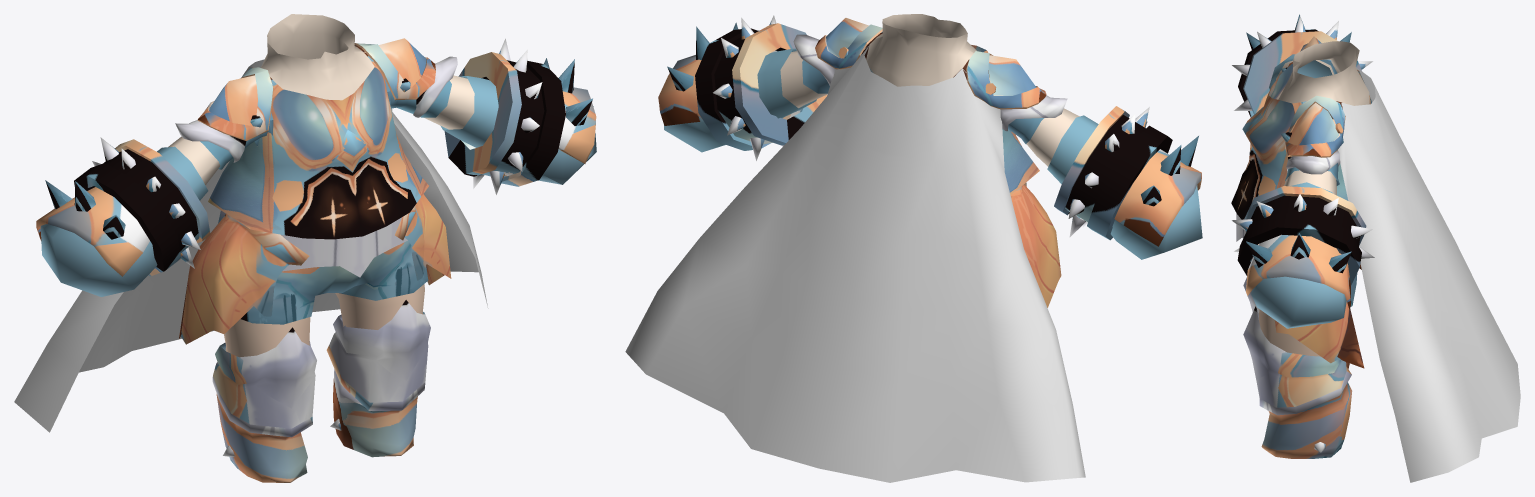
The model's file is body.fbx.
3 renders of one model, left to right at view 1: azimuth 30°, elevation 25°; view 2: azimuth 150°, elevation 25°; view 3: azimuth 270°, elevation 25°, orthographic. The views are drawn at different scales.
Visible parts, largest first — view 1: armour, Cloak, Body; view 2: Cloak, armour, Body; view 3: armour, Cloak, Body.
Part boxes in pixels (x1,y1,x2,y2): armour: [36, 38, 596, 482]; Cloak: [14, 59, 488, 432]; Body: [168, 14, 474, 357]; Cloak: [625, 46, 1085, 482]; armour: [658, 15, 1202, 307]; Body: [780, 14, 1079, 166]; armour: [1231, 14, 1374, 458]; Cloak: [1338, 67, 1520, 482]; Body: [1259, 41, 1369, 356].
Bounding box in the file's own units: 172 × 126 × 88.79.
